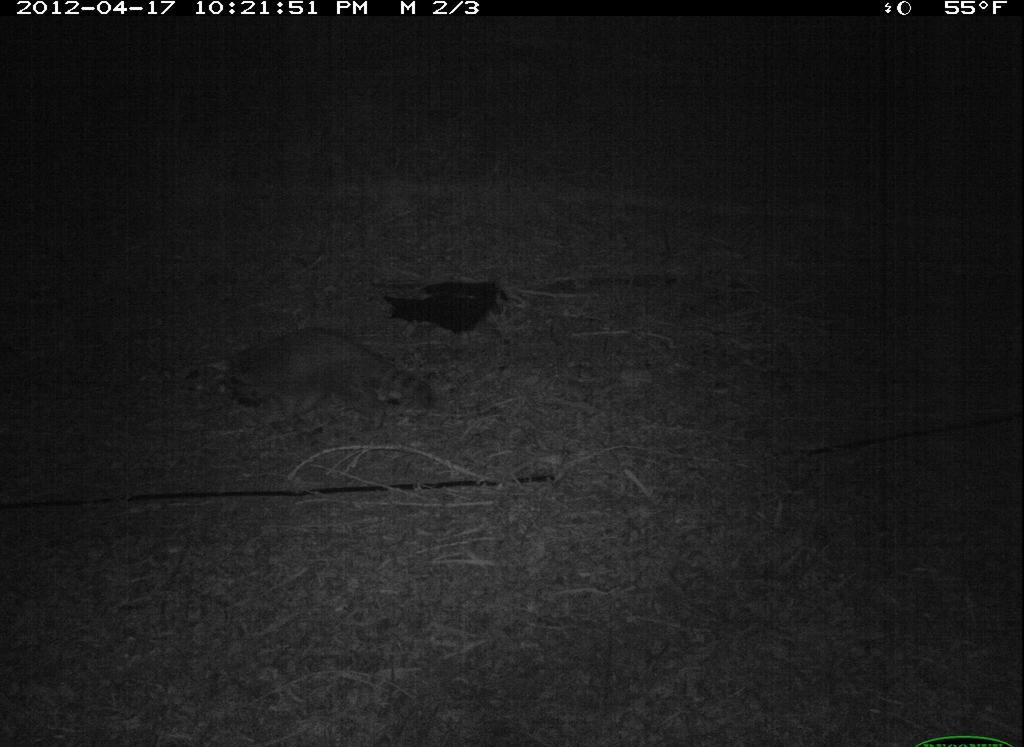raccoon: (217, 314, 445, 461)
